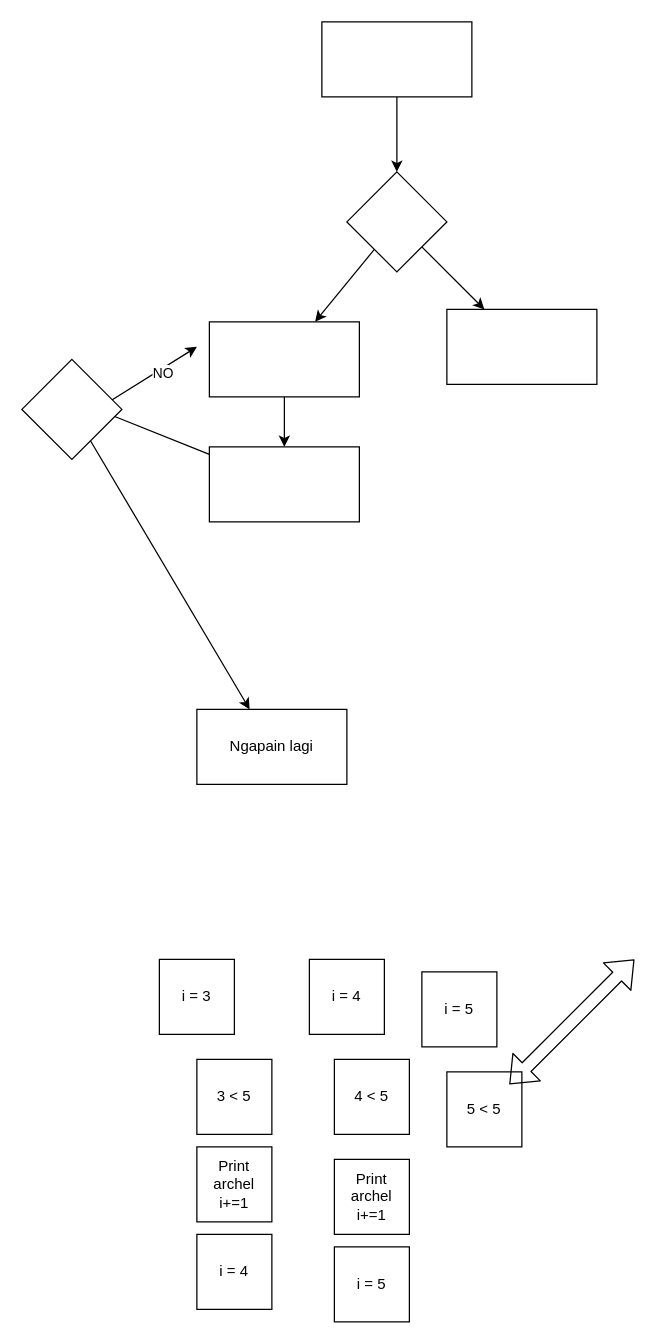
The diagram is 656 pixels wide and 1344 high, and some of its shapes have lost their labels. Each missing label, with the box of its shape:
Bilangannya Ganjil?: (321, 21, 472, 97)
SUdah seelesai?: (21, 358, 122, 459)
